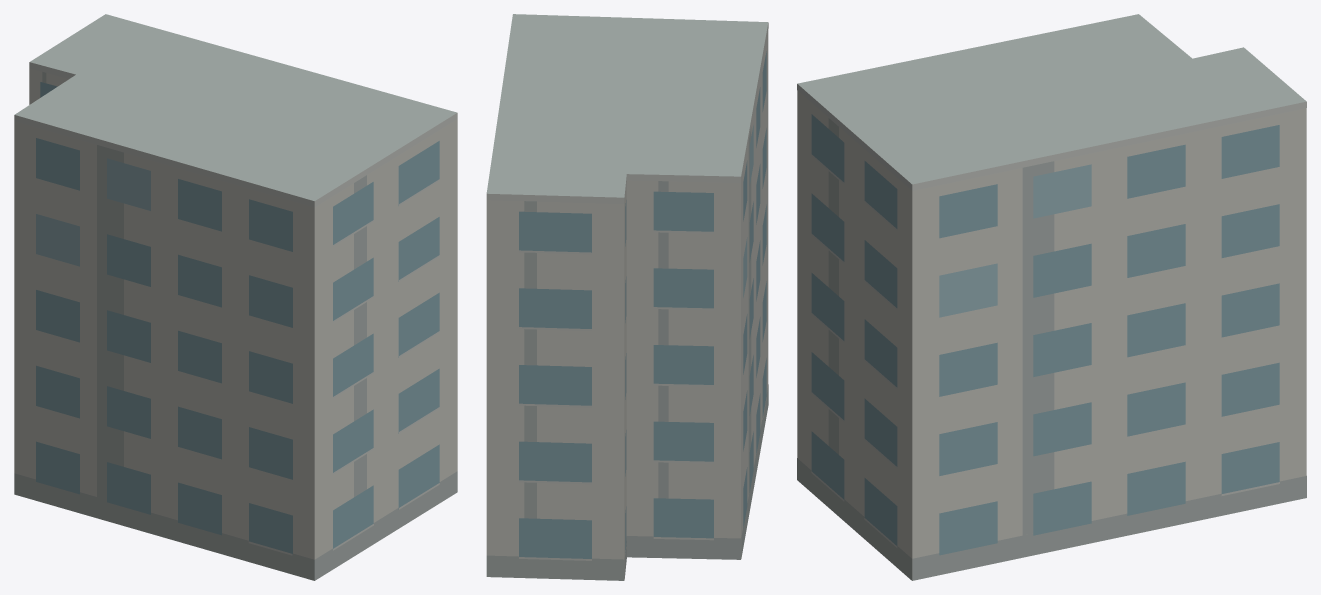
Rendered from survey-upis-32955130.glb.
3 views of the same model, side by side, from view 1: azimuth 30°, elevation 25°; view 2: azimuth 150°, elevation 25°; view 3: azimuth 270°, elevation 25° (orthographic). The views are drawn at different scales.
Visible parts, largest first — view 1: survey-upis-32955130.tmp; view 2: survey-upis-32955130.tmp; view 3: survey-upis-32955130.tmp.
Boxes of the visible parts, bbox=[...] form: survey-upis-32955130.tmp: bbox=[14, 14, 457, 580]; survey-upis-32955130.tmp: bbox=[486, 14, 768, 580]; survey-upis-32955130.tmp: bbox=[797, 14, 1306, 580].
Bounding box in the file's own units: 13.71 × 14.85 × 17.31.
